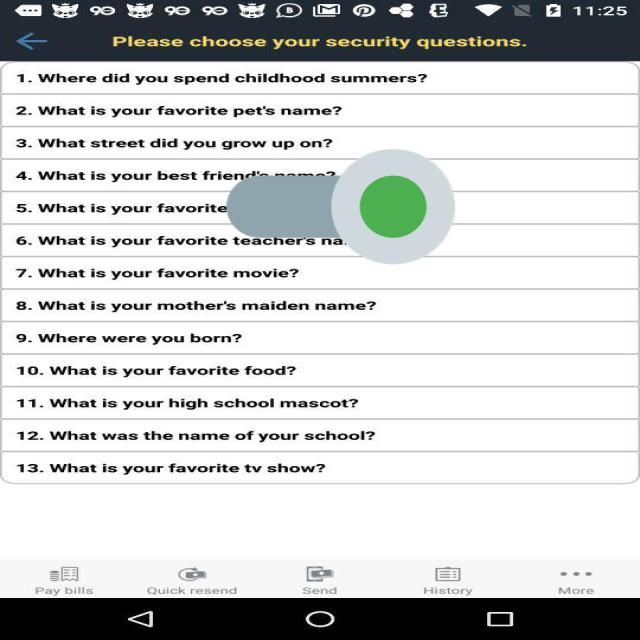social proof: (226, 100, 455, 313)
